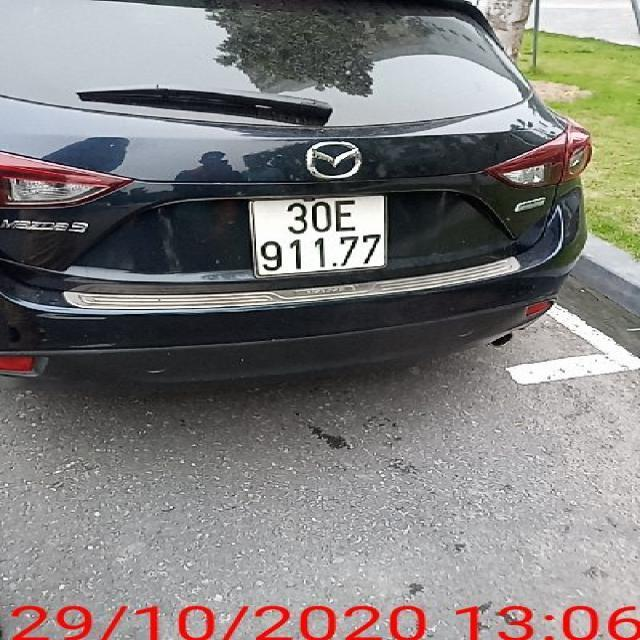bien_so_oto: (248, 195, 388, 279)
